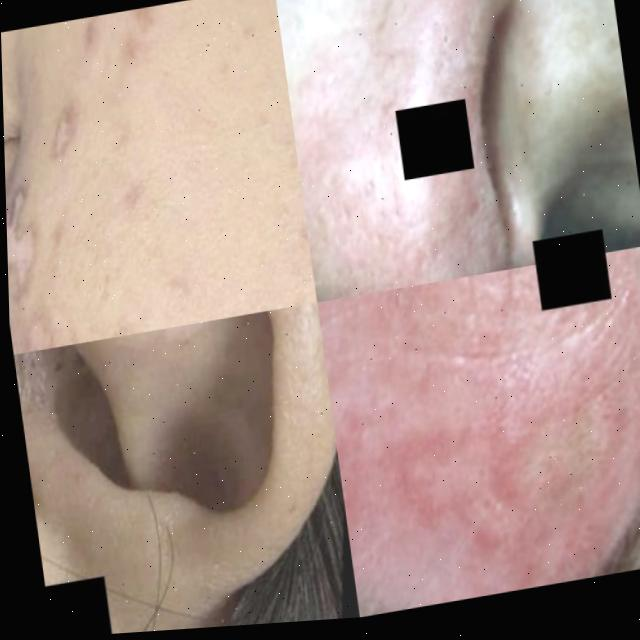lupus-detected: (315, 244, 640, 619), (272, 0, 635, 304), (12, 302, 336, 496), (17, 0, 291, 192), (2, 67, 185, 354)
